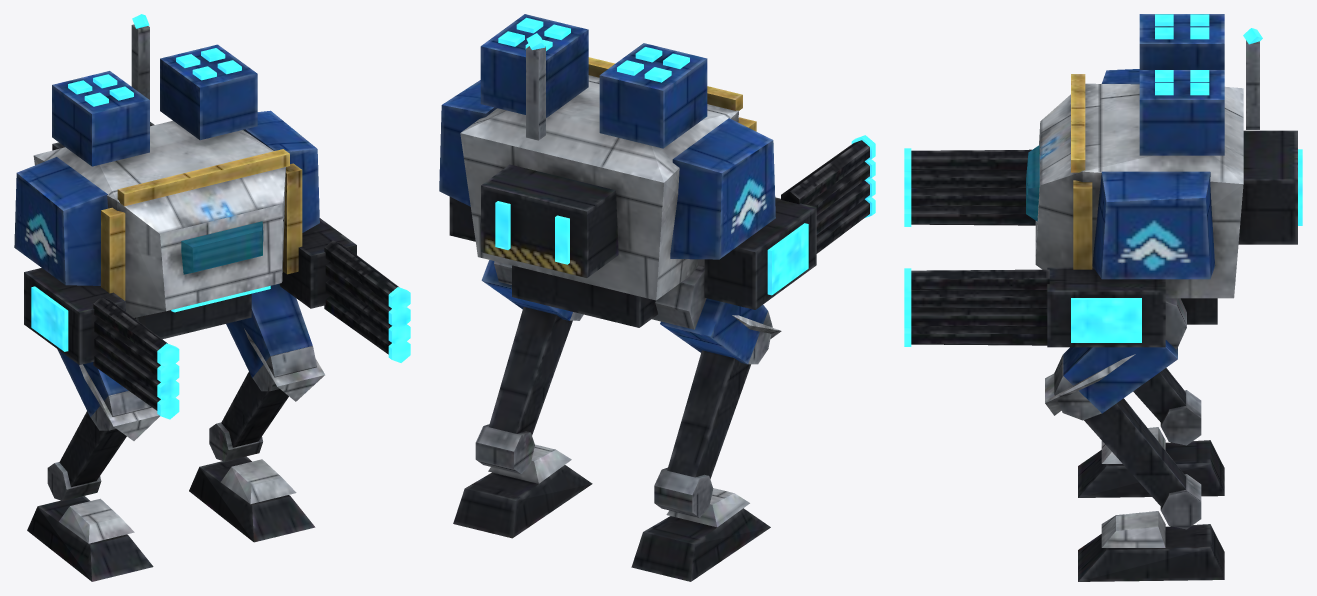
File: u_titan3_w.glb
3 views of the same model, side by side, from view 1: azimuth 30°, elevation 25°; view 2: azimuth 150°, elevation 25°; view 3: azimuth 270°, elevation 25° (orthographic). The views are drawn at different scales.
Visible parts, largest first — view 1: u_titan3_w; view 2: u_titan3_w; view 3: u_titan3_w.
Part boxes in pixels (x1,y1,x2,y2): u_titan3_w: [14, 14, 410, 581]; u_titan3_w: [439, 14, 875, 581]; u_titan3_w: [904, 14, 1302, 581].
Bounding box in the file's own units: 1.74 × 2.78 × 1.98.
1 material, 1 textured.
